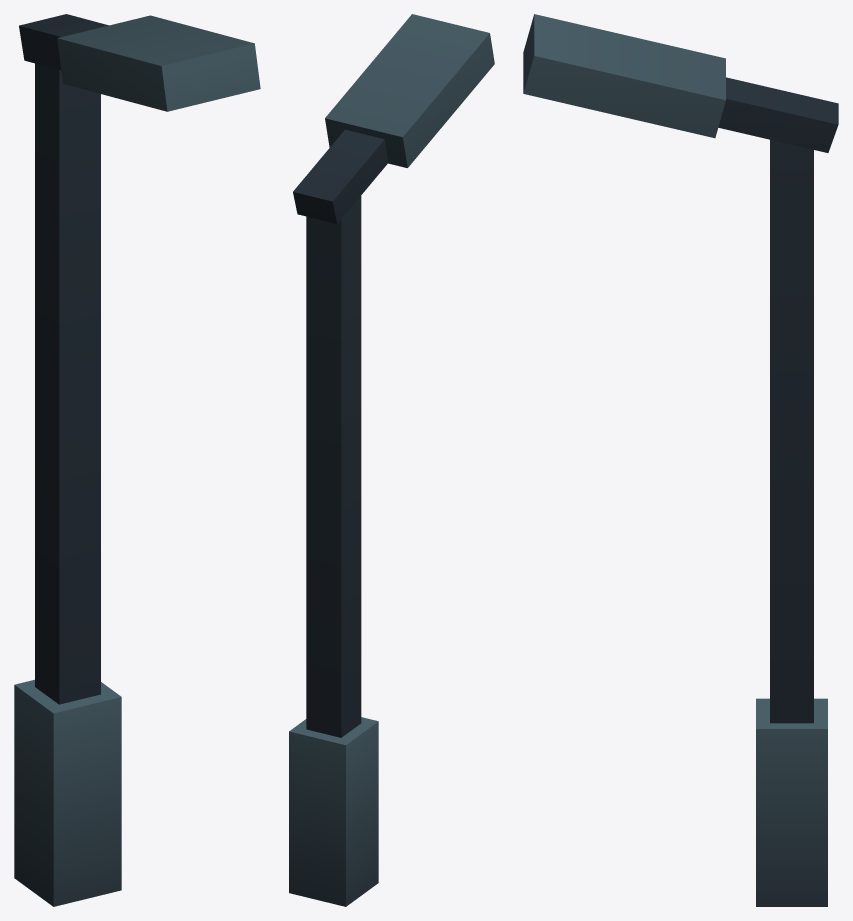
The model's file is Flashlight_1.fbx.
3 views of the same model, side by side, from view 1: azimuth 30°, elevation 25°; view 2: azimuth 150°, elevation 25°; view 3: azimuth 270°, elevation 25° (orthographic). The views are drawn at different scales.
Parts seen in each view (by area): view 1: Flashlight_1; view 2: Flashlight_1; view 3: Flashlight_1.
Boxes of the visible parts, x1,y1,x2,y2 form: Flashlight_1: [14, 14, 260, 906]; Flashlight_1: [289, 14, 494, 906]; Flashlight_1: [523, 14, 838, 906].
Bounding box in the file's own units: 56.44 × 539 × 180.
